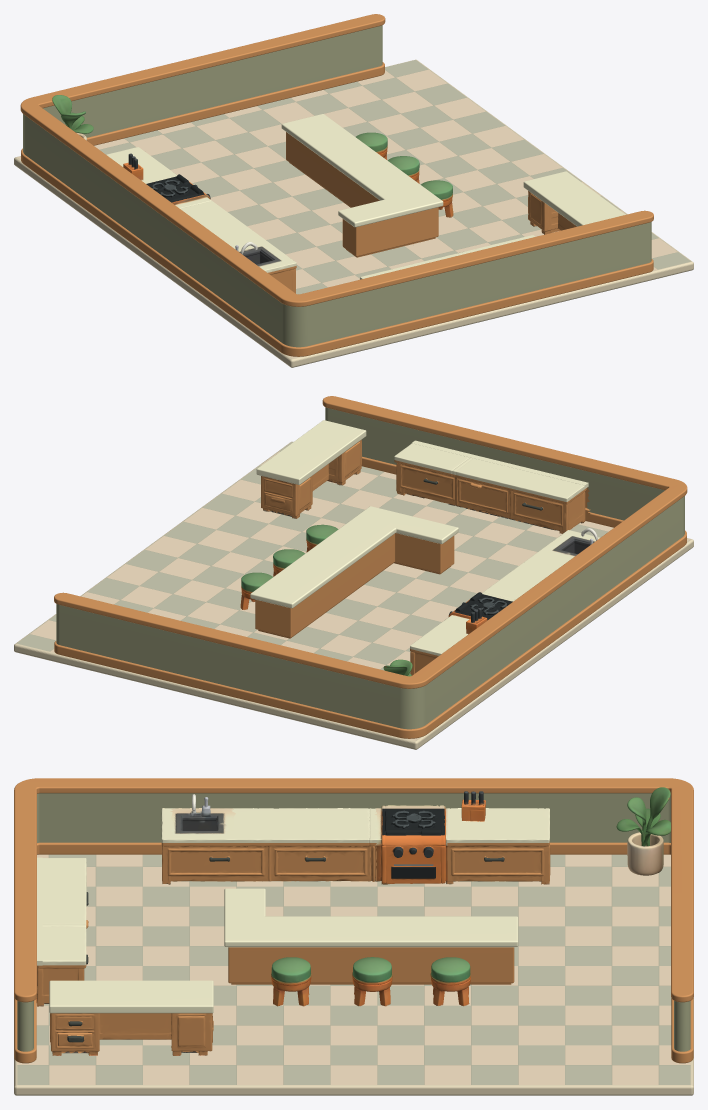
The model's file is sushi-room-v14-clean.glb.
The picture shows the model from 3 angles, top to bottom: view 1: azimuth 30°, elevation 25°; view 2: azimuth 150°, elevation 25°; view 3: azimuth 270°, elevation 25°; orthographic projection. The views are drawn at different scales.
Visible parts, largest first — view 1: Kitchen • clean tiled floor, Kitchen • continuous rounded wall panels, Kitchen • continuous oak top rail, Kitchen • preserved Tripo furnishings, Kitchen • continuous oak base rail, Front Island • continuous L worktop, Front Island • clean wood body, Cashier Desk • replacement ivory worktop; view 2: Kitchen • clean tiled floor, Kitchen • continuous rounded wall panels, Kitchen • preserved Tripo furnishings, Kitchen • continuous oak top rail, Kitchen • continuous oak base rail, Front Island • continuous L worktop, Front Island • clean wood body, Cashier Desk • replacement ivory worktop, Side Counter • clean ivory wall junction; view 3: Kitchen • clean tiled floor, Kitchen • preserved Tripo furnishings, Kitchen • continuous oak top rail, Kitchen • continuous rounded wall panels, Front Island • continuous L worktop, Front Island • clean wood body, Cashier Desk • replacement ivory worktop, Kitchen • continuous oak base rail, Side Counter • clean ivory wall junction.
Boxes of the visible parts, box(x1,y1,x2,y2) form: Kitchen • clean tiled floor: box(14, 59, 693, 367); Kitchen • continuous rounded wall panels: box(23, 25, 651, 347); Kitchen • continuous oak top rail: box(20, 14, 653, 306); Kitchen • preserved Tripo furnishings: box(52, 95, 576, 293); Kitchen • continuous oak base rail: box(21, 62, 653, 356); Front Island • continuous L worktop: box(281, 114, 443, 227); Front Island • clean wood body: box(286, 132, 438, 256); Cashier Desk • replacement ivory worktop: box(523, 171, 625, 226); Kitchen • clean tiled floor: box(14, 441, 693, 749); Kitchen • continuous rounded wall panels: box(56, 407, 684, 729); Kitchen • preserved Tripo furnishings: box(240, 440, 599, 676); Kitchen • continuous oak top rail: box(54, 396, 687, 688); Kitchen • continuous oak base rail: box(54, 456, 686, 738); Front Island • continuous L worktop: box(250, 506, 458, 608); Front Island • clean wood body: box(255, 533, 454, 637); Cashier Desk • replacement ivory worktop: box(256, 420, 366, 484); Side Counter • clean ivory wall junction: box(412, 440, 588, 488); Kitchen • clean tiled floor: box(14, 854, 693, 1095); Kitchen • preserved Tripo furnishings: box(36, 787, 670, 1055); Kitchen • continuous oak top rail: box(14, 778, 693, 1002); Kitchen • continuous rounded wall panels: box(17, 793, 690, 1051); Front Island • continuous L worktop: box(224, 888, 518, 947); Front Island • clean wood body: box(228, 947, 514, 983); Cashier Desk • replacement ivory worktop: box(49, 980, 213, 1013); Kitchen • continuous oak base rail: box(14, 842, 693, 1063); Side Counter • clean ivory wall junction: box(37, 857, 42, 965).
Bounding box in the file's own units: 5.98 × 0.9861 × 7.13.
Materials: 17 (3 with a texture image).
